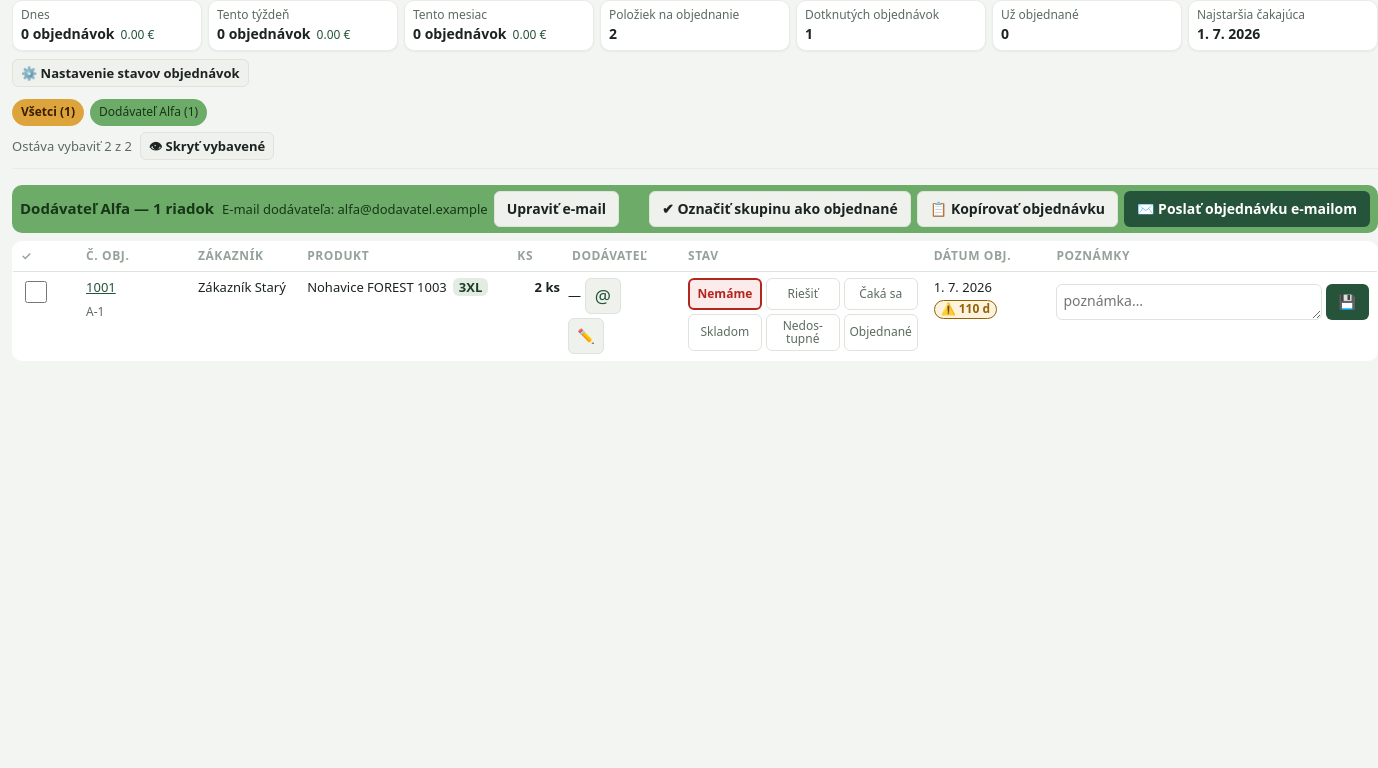
Test: s e-mailom a otvorenou položkou manažér otvorí náhľad, potvrdí a mail sa odošle
Click the button "✉️ Poslať objednávku e-mailom": (1247, 209) left=1124, top=191, right=1370, bottom=227
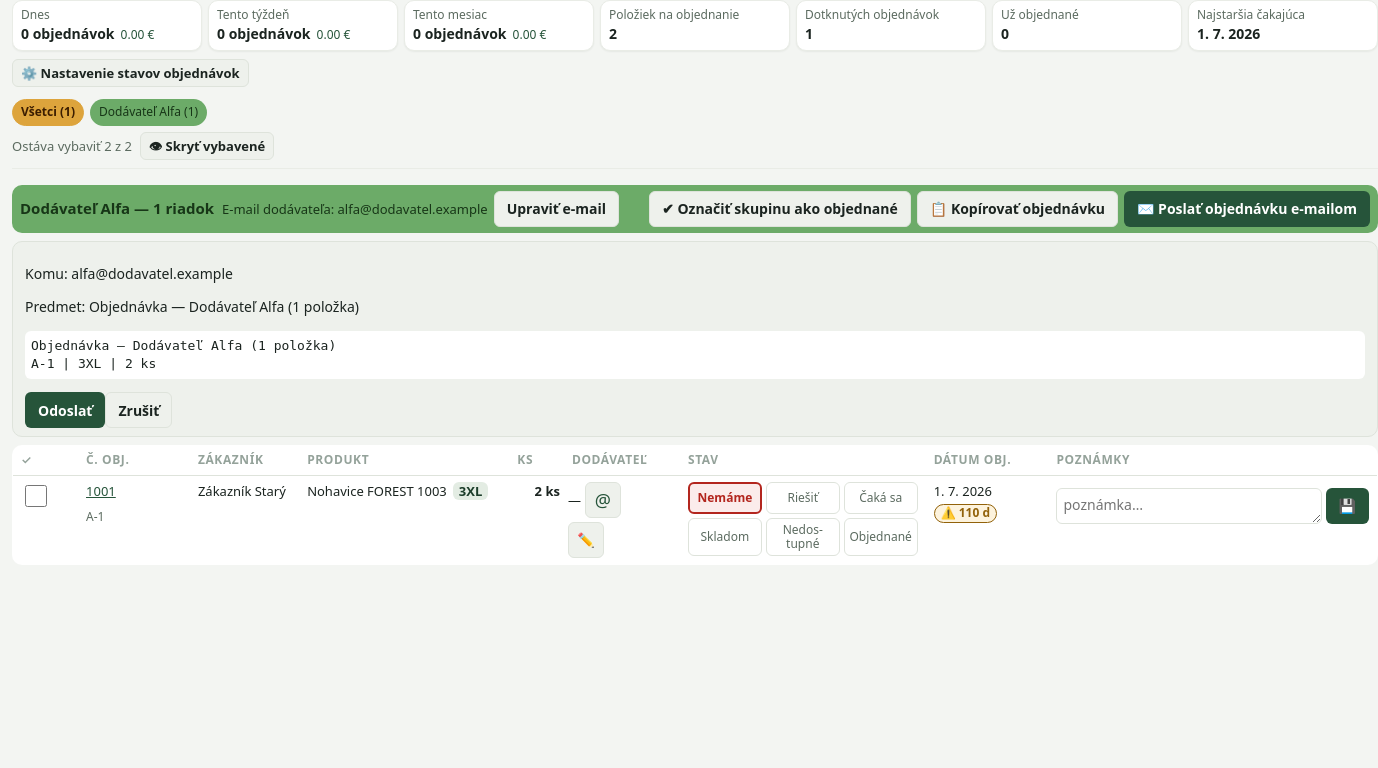
Expected: the element with test id "mail-preview-Dodávateľ Alfa" shows "alfa@dodavatel.example", left=71, top=264, right=233, bottom=283
Expected: the element with test id "mail-preview-Dodávateľ Alfa" shows "Objednávka — Dodávateľ Alfa (1 položka)", left=89, top=297, right=359, bottom=316
Click the button "Odoslať": (65, 410) left=25, top=392, right=105, bottom=428
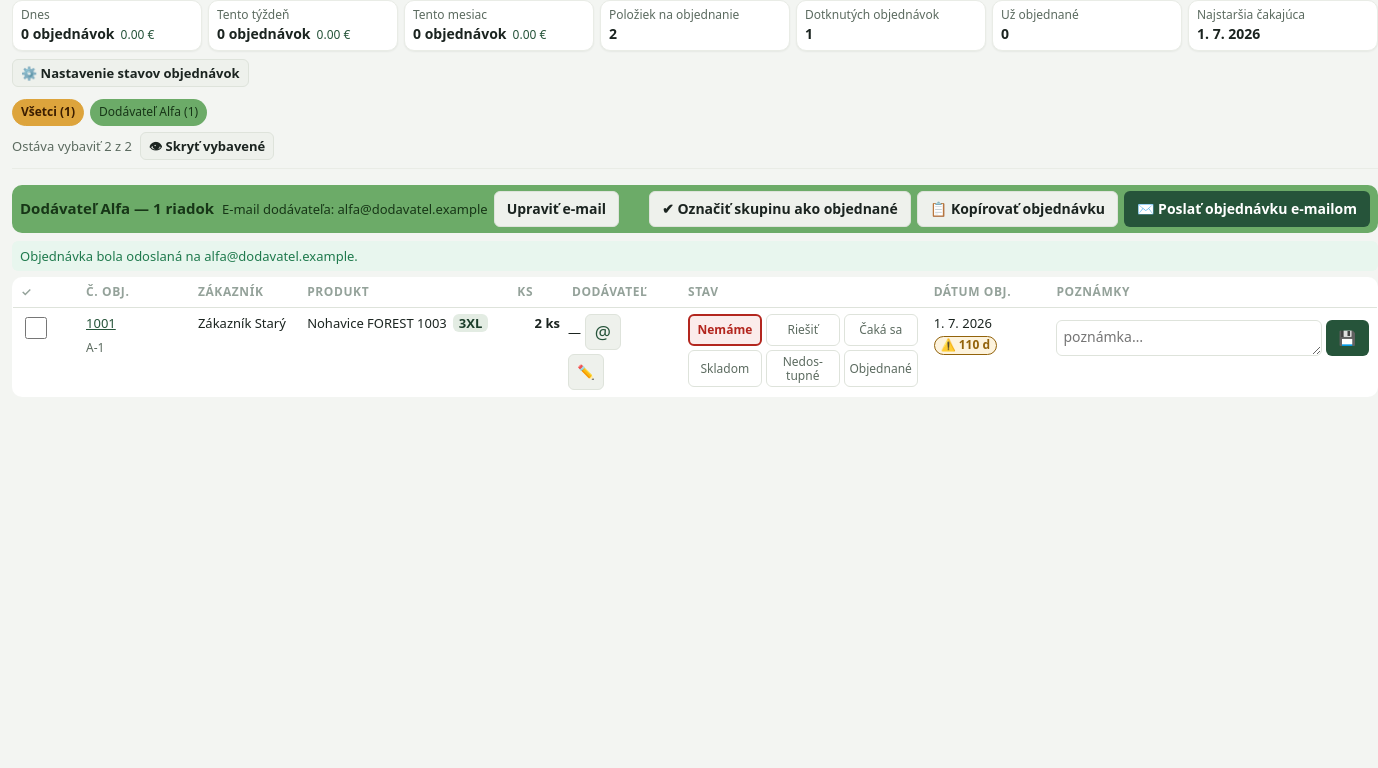
Expected: the message shows "odoslaná", left=20, top=247, right=358, bottom=265
